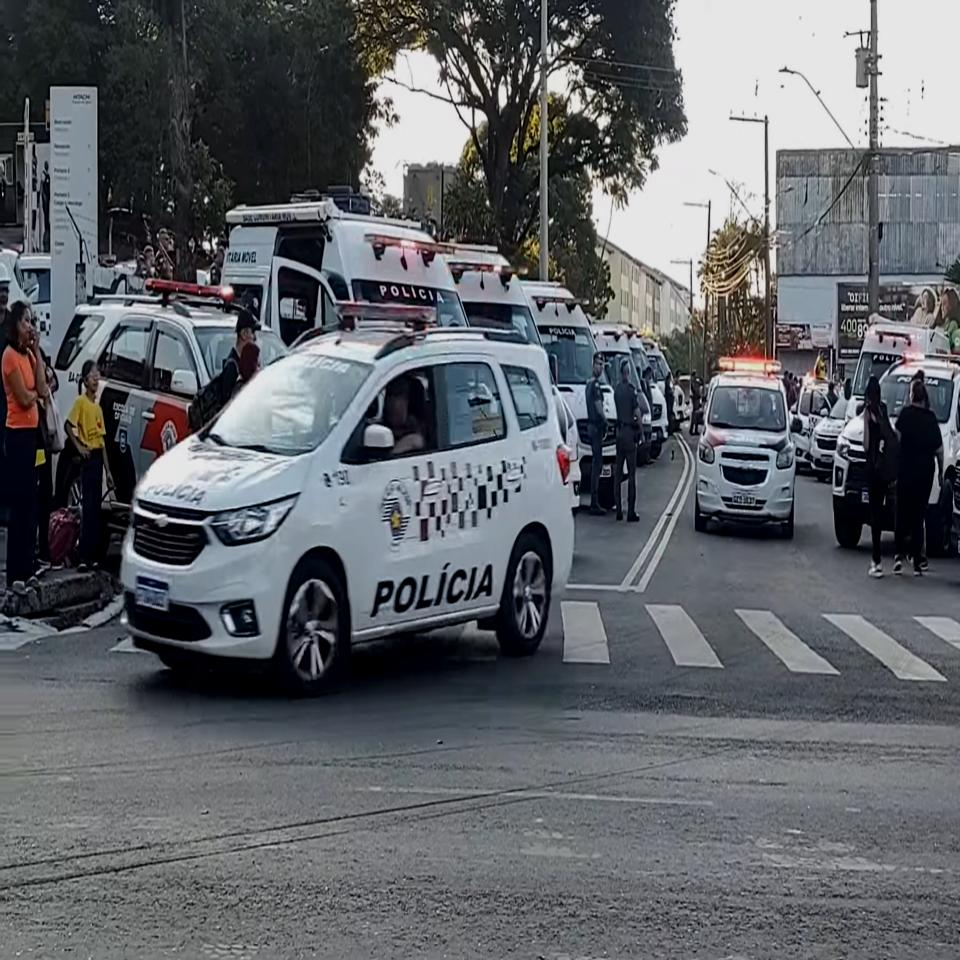viatura: (121, 307, 575, 695), (694, 352, 807, 538)
